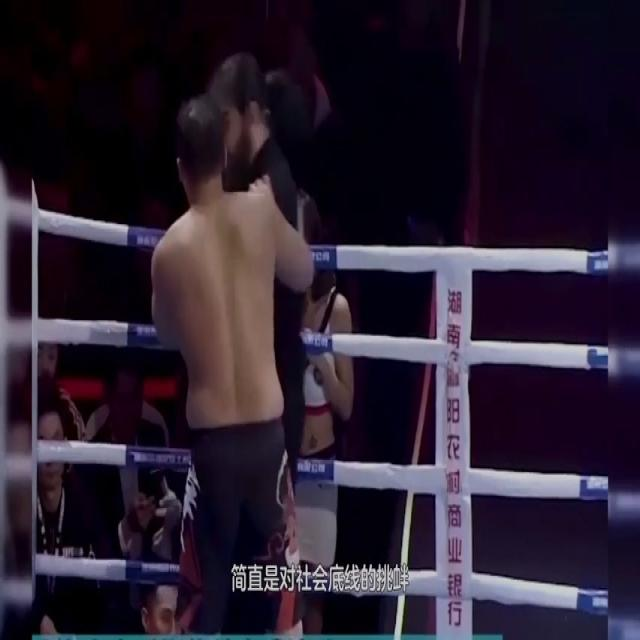non-fight: (140, 113, 314, 627), (212, 52, 316, 635)
